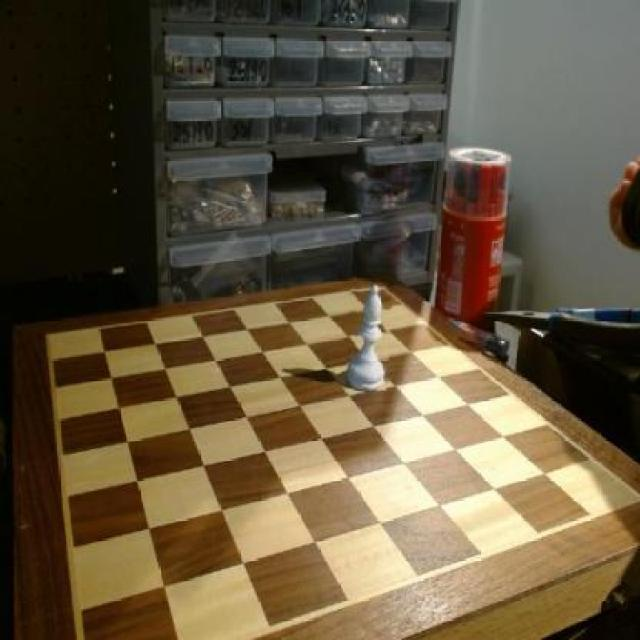black-rook: (346, 277, 392, 397)
